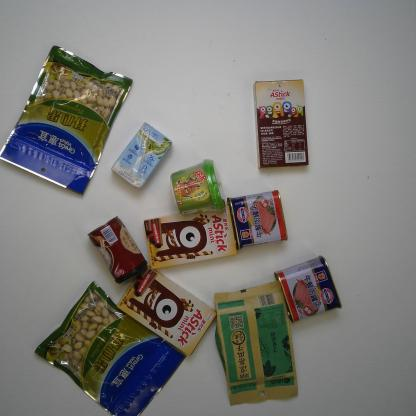Canned Food: (270, 254, 344, 324), (86, 215, 152, 287), (225, 185, 291, 252)
Dessert: (114, 266, 220, 358), (141, 207, 239, 270), (252, 76, 310, 172)
Dried Food: (212, 281, 300, 408)
Dried Fruit: (30, 278, 188, 413), (1, 43, 136, 197)
Instant Drink: (166, 156, 228, 218)
Milk: (109, 120, 174, 190)
